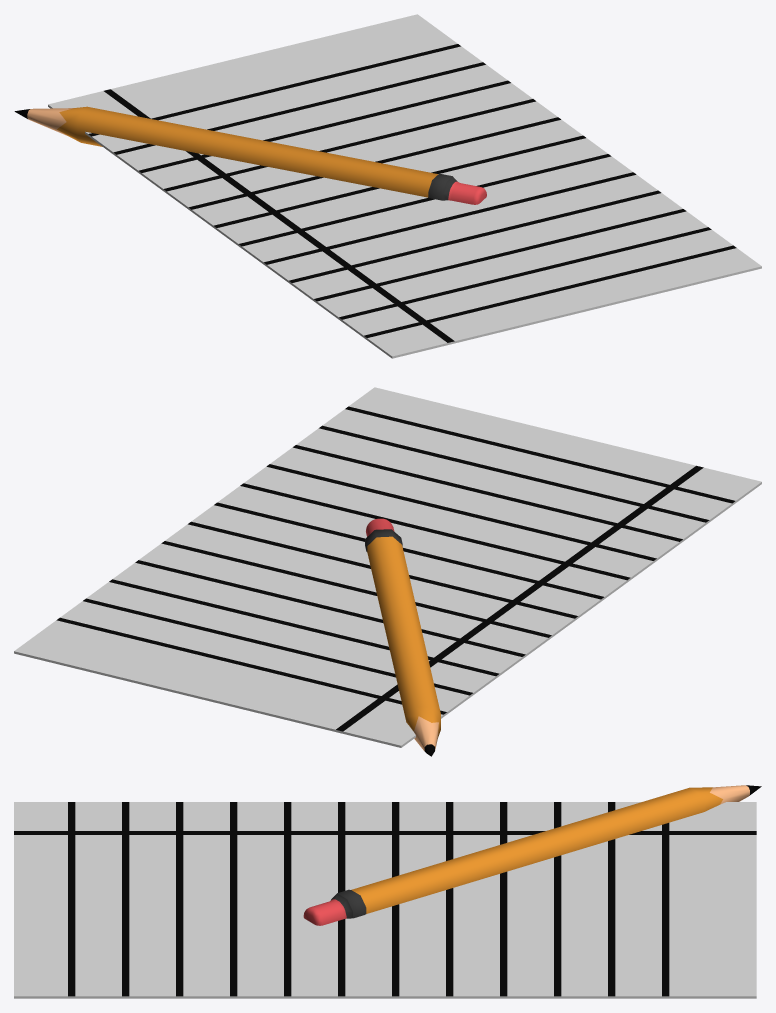
Rendered from Pencil-paper.fbx.
The picture shows the model from 3 angles, top to bottom: view 1: azimuth 30°, elevation 25°; view 2: azimuth 150°, elevation 25°; view 3: azimuth 270°, elevation 25°; orthographic projection. The views are drawn at different scales.
Visible parts, largest first — view 1: Plane, Pencil_Cube; view 2: Plane, Pencil_Cube; view 3: Plane, Pencil_Cube.
Boxes of the visible parts, x1,y1,x2,y2 form: Plane: [48, 14, 761, 358]; Pencil_Cube: [14, 106, 486, 204]; Plane: [14, 387, 761, 747]; Pencil_Cube: [365, 518, 440, 756]; Plane: [14, 802, 756, 998]; Pencil_Cube: [303, 785, 761, 925].
Bounding box in the file's own units: 84.45 × 6.33 × 126.
